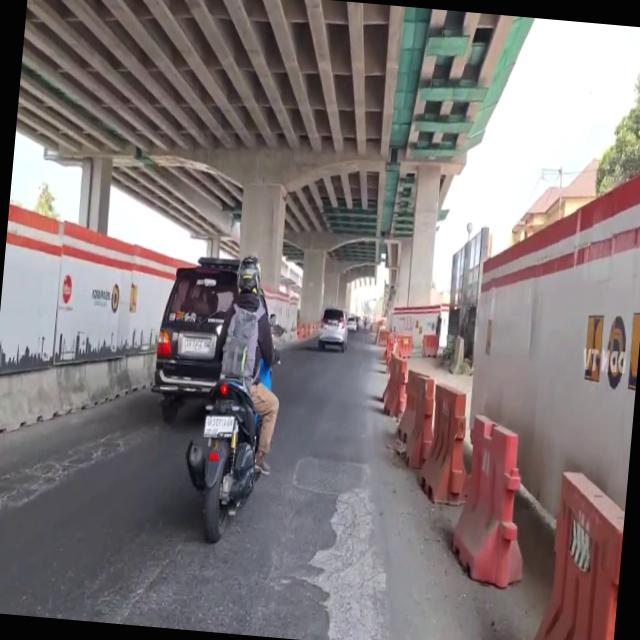WithHelmet: (211, 252, 293, 477)
